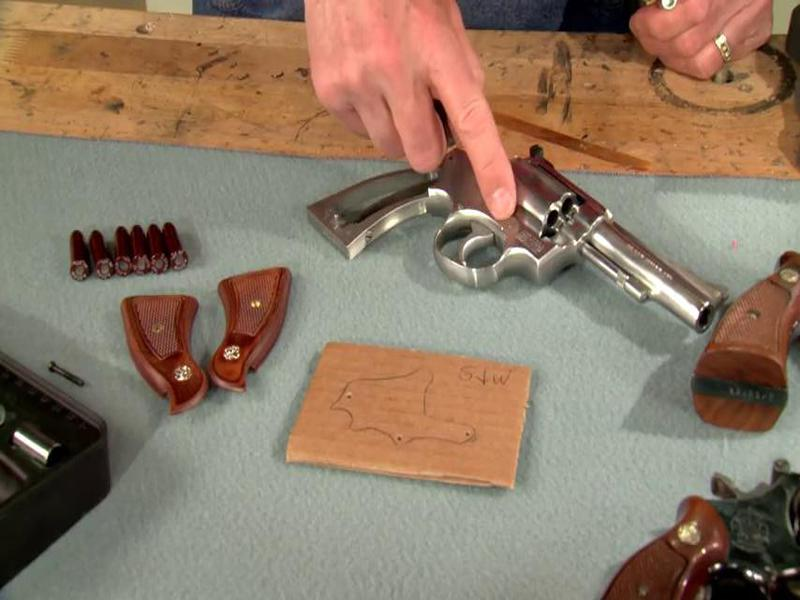Revolver: (303, 99, 762, 382)
